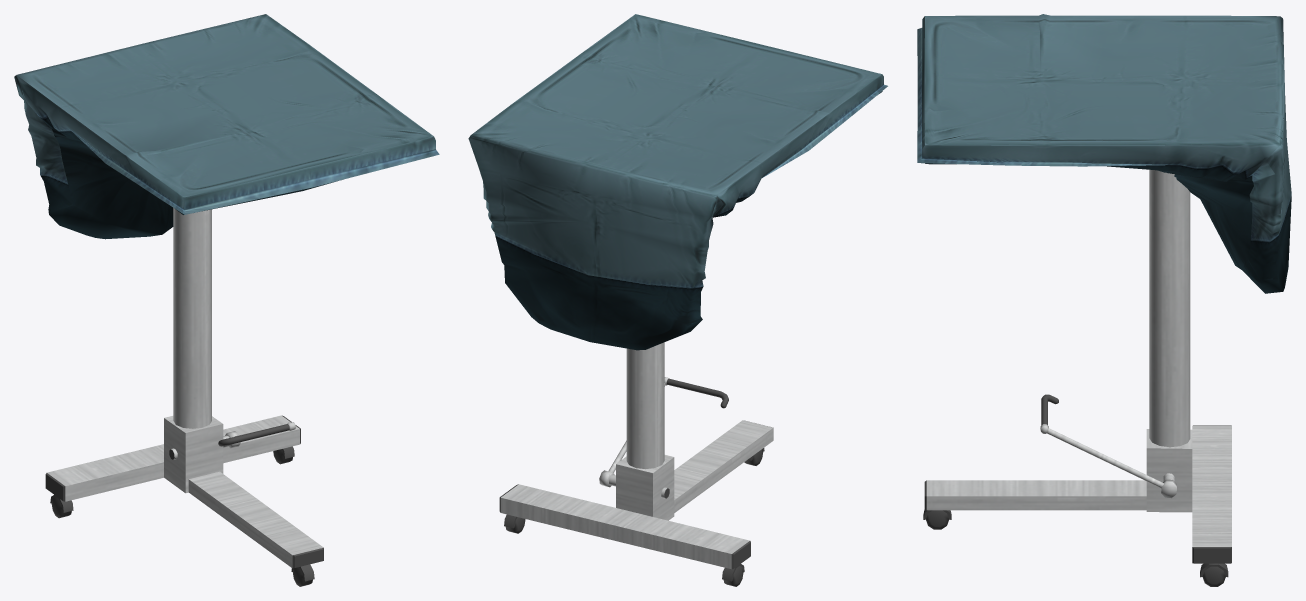
File: Steel_Table_A.fbx
The picture shows the model from 3 angles, left to right: view 1: azimuth 30°, elevation 25°; view 2: azimuth 150°, elevation 25°; view 3: azimuth 270°, elevation 25°; orthographic projection. The views are drawn at different scales.
Visible parts, largest first — view 1: Steel_Table_A_Bag, Steel_Table_A_Mesh; view 2: Steel_Table_A_Bag, Steel_Table_A_Mesh; view 3: Steel_Table_A_Bag, Steel_Table_A_Mesh.
Part boxes in pixels (<box>): Steel_Table_A_Bag: <box>14,14,439,239</box>; Steel_Table_A_Mesh: <box>45,208,323,586</box>; Steel_Table_A_Bag: <box>468,14,887,350</box>; Steel_Table_A_Mesh: <box>499,342,773,586</box>; Steel_Table_A_Bag: <box>917,14,1291,293</box>; Steel_Table_A_Mesh: <box>923,169,1231,586</box>.
Bounding box in the file's own units: 60.68 × 94.71 × 71.72.
